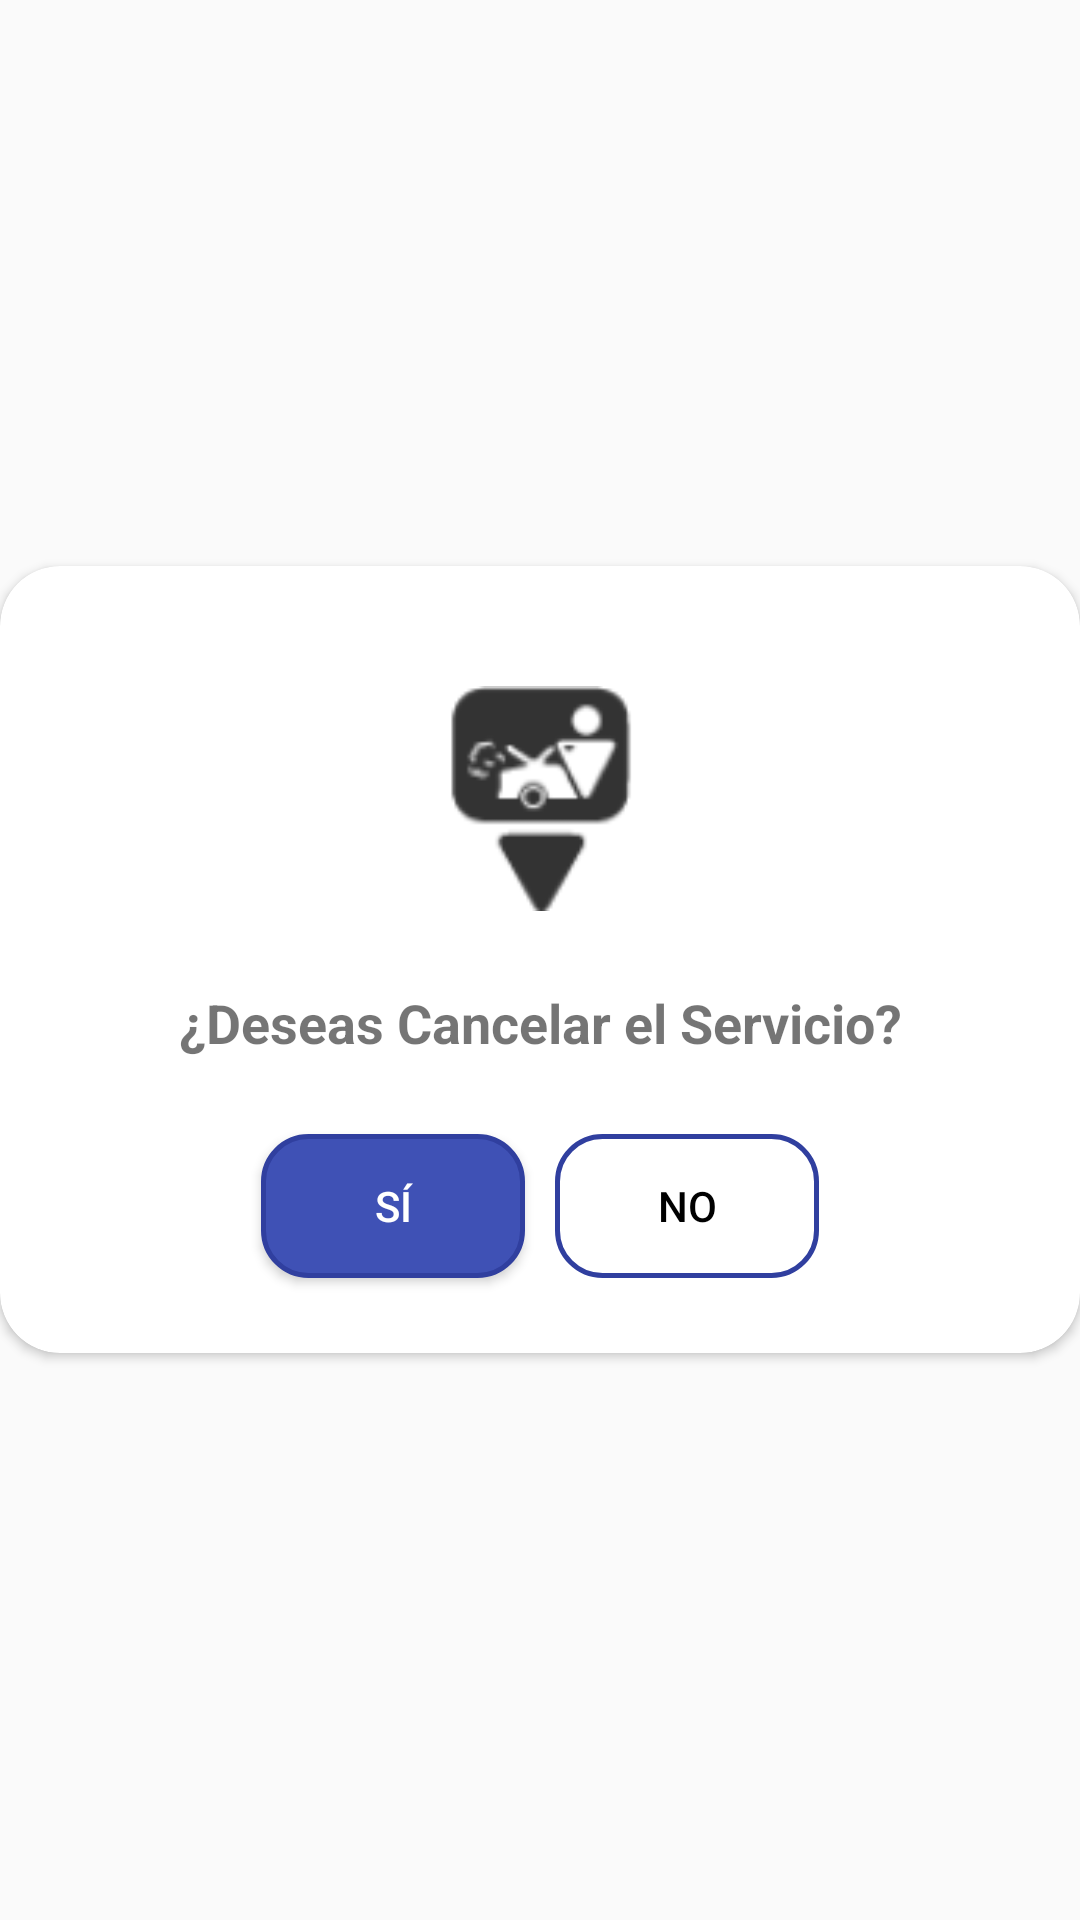

Icon click points for this 1080w x 1920h phone screenshot, format [x,y]:
varado negro: [541,798]
